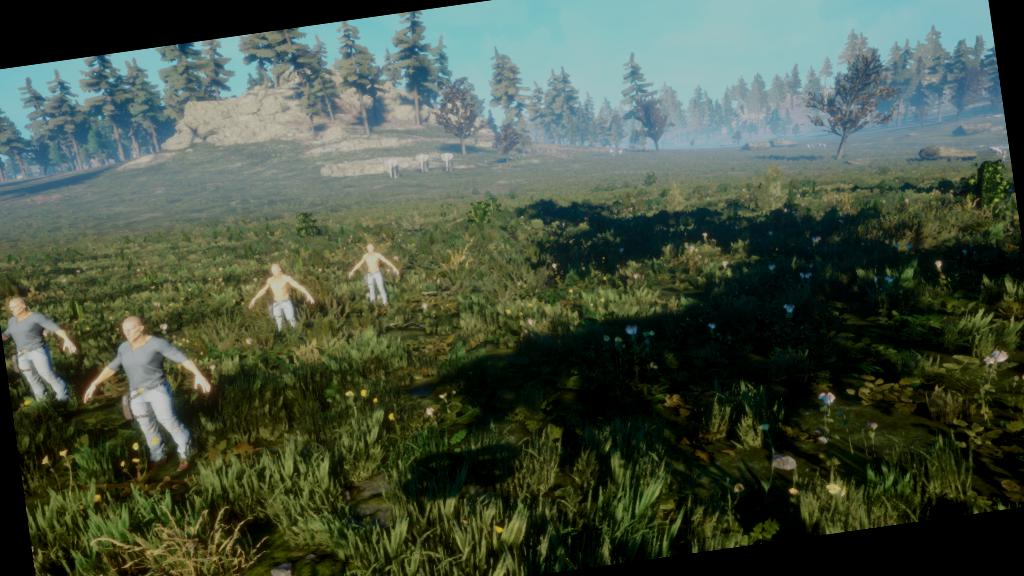elephant: (374, 152, 414, 204), (414, 145, 436, 183), (437, 146, 463, 178)
human: (68, 289, 236, 494), (236, 241, 324, 354), (339, 224, 419, 319)
